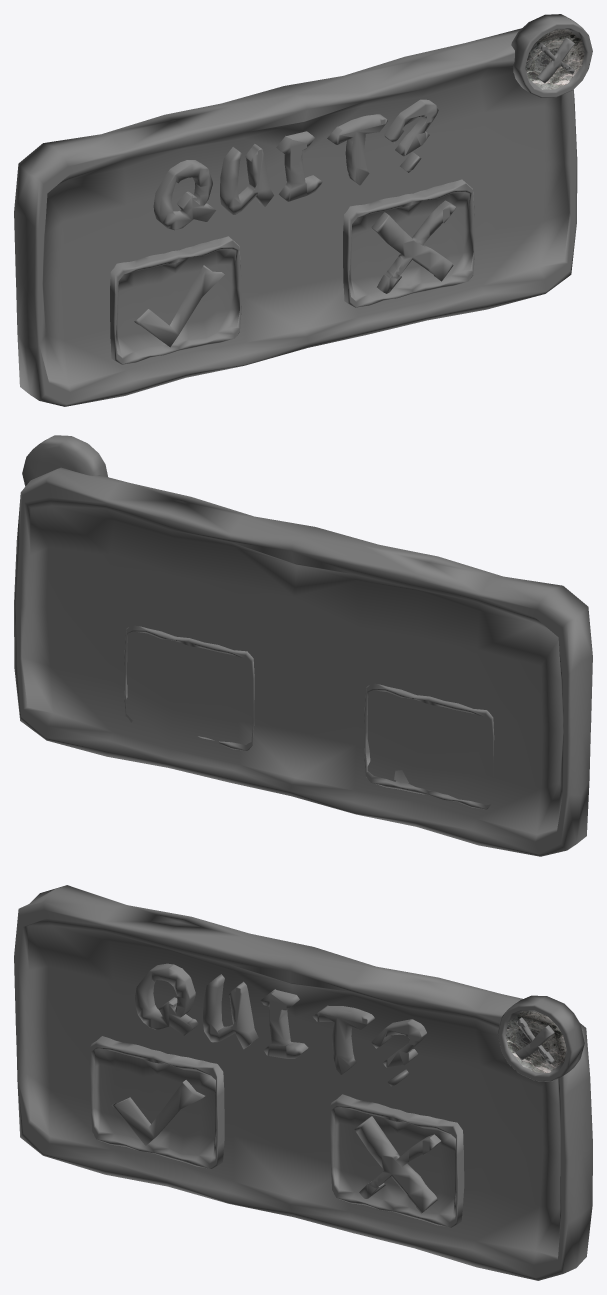
File: quit_popup.obj
3 views of the same model, one above another, from view 1: azimuth 30°, elevation 25°; view 2: azimuth 150°, elevation 25°; view 3: azimuth 330°, elevation 25° (orthographic). The views are drawn at different scales.
Visible parts, largest first — view 1: turn_indicator:o_face turn_indicator:polySurface1 polySurface10, turn_indicator:background polySurface1 turn_indicator:polySurfac, polySurface53, turn_indicator:o_face turn_indicator:polySurface1 polySurface54, turn_indicator:background turn_indicator:polySurface1 polySurfac, turn_indicator:o_face turn_indicator:polySurface1 polySurface57, undo_button:Default undo_button:polySurface21 undo_button:polySu, _X_:planarTrimmedSurface1, polySurface31 planarTrimmedSurface1, planarTrimmedSurface2; view 2: turn_indicator:x_face turn_indicator:polySurface1 polySurface11, turn_indicator:background polySurface1 turn_indicator:polySurfac, turn_indicator:background turn_indicator:polySurface1 polySurfac, undo_button:Default undo_button:polySurface21 undo_button:polySu; view 3: turn_indicator:o_face turn_indicator:polySurface1 polySurface10, turn_indicator:background polySurface1 turn_indicator:polySurfac, polySurface53, turn_indicator:background turn_indicator:polySurface1 polySurfac, turn_indicator:o_face turn_indicator:polySurface1 polySurface54, turn_indicator:o_face turn_indicator:polySurface1 polySurface57, undo_button:Default undo_button:polySurface21 undo_button:polySu, _X_:planarTrimmedSurface1, polySurface31 planarTrimmedSurface1, planarTrimmedSurface2.
Boxes of the visible parts, bbox=[...] form: turn_indicator:o_face turn_indicator:polySurface1 polySurface10: bbox=[43, 73, 569, 385]; turn_indicator:background polySurface1 turn_indicator:polySurfac: bbox=[14, 28, 577, 406]; polySurface53: bbox=[153, 99, 438, 230]; turn_indicator:o_face turn_indicator:polySurface1 polySurface54: bbox=[116, 249, 239, 355]; turn_indicator:background turn_indicator:polySurface1 polySurfac: bbox=[110, 179, 474, 364]; turn_indicator:o_face turn_indicator:polySurface1 polySurface57: bbox=[349, 193, 473, 298]; undo_button:Default undo_button:polySurface21 undo_button:polySu: bbox=[511, 14, 592, 97]; _X_:planarTrimmedSurface1: bbox=[371, 200, 456, 293]; polySurface31 planarTrimmedSurface1: bbox=[134, 265, 224, 347]; planarTrimmedSurface2: bbox=[537, 37, 574, 83]; turn_indicator:x_face turn_indicator:polySurface1 polySurface11: bbox=[22, 507, 562, 834]; turn_indicator:background polySurface1 turn_indicator:polySurfac: bbox=[14, 467, 592, 856]; turn_indicator:background turn_indicator:polySurface1 polySurfac: bbox=[124, 625, 494, 809]; undo_button:Default undo_button:polySurface21 undo_button:polySu: bbox=[22, 435, 107, 486]; turn_indicator:o_face turn_indicator:polySurface1 polySurface10: bbox=[26, 926, 560, 1256]; turn_indicator:background polySurface1 turn_indicator:polySurfac: bbox=[14, 885, 592, 1280]; polySurface53: bbox=[135, 963, 426, 1086]; turn_indicator:background turn_indicator:polySurface1 polySurfac: bbox=[89, 1036, 464, 1227]; turn_indicator:o_face turn_indicator:polySurface1 polySurface54: bbox=[94, 1049, 216, 1157]; turn_indicator:o_face turn_indicator:polySurface1 polySurface57: bbox=[334, 1107, 456, 1216]; undo_button:Default undo_button:polySurface21 undo_button:polySu: bbox=[497, 995, 584, 1081]; _X_:planarTrimmedSurface1: bbox=[354, 1116, 441, 1213]; polySurface31 planarTrimmedSurface1: bbox=[111, 1080, 204, 1145]; planarTrimmedSurface2: bbox=[515, 1017, 554, 1064].
Size of what is drawn, in the model's own units: 55.96 by 27.12 by 5.55.
5 materials, 1 textured.
